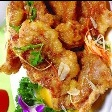guobaorou: (1, 0, 111, 112)
